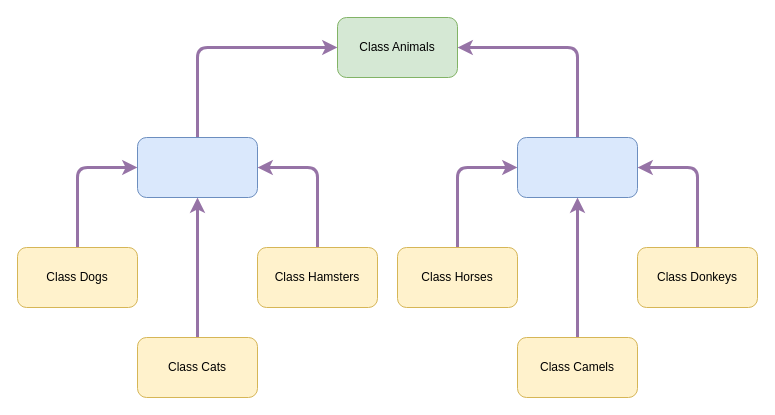
This 775x415 diagram has some shape labels left out. The centre of each missing label's shape, as x and y in pixels:
Class Pack Animals: pixel 577 167
Class Pets: pixel 197 167
